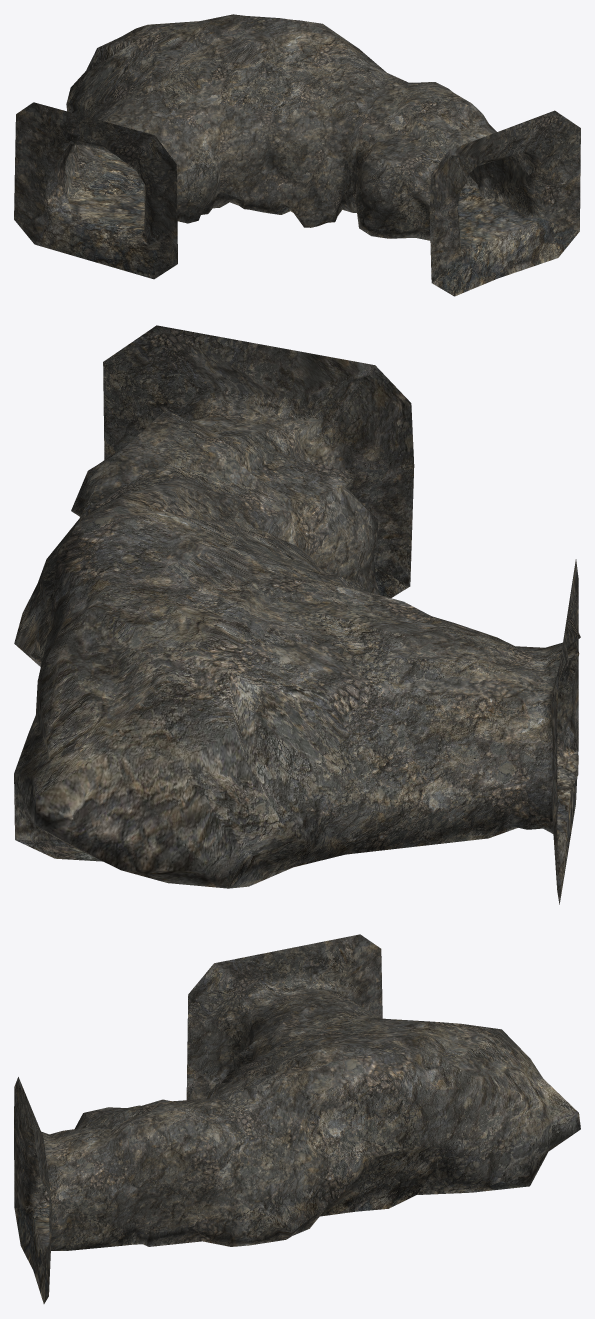
The model's file is Cave2.fbx.
3 renders of one model, top to bottom at view 1: azimuth 30°, elevation 25°; view 2: azimuth 150°, elevation 25°; view 3: azimuth 270°, elevation 25°, orthographic. The views are drawn at different scales.
Parts seen in each view (by area): view 1: Cave2; view 2: Cave2; view 3: Cave2.
Boxes of the visible parts, x1,y1,x2,y2 form: Cave2: (14, 14, 580, 296); Cave2: (14, 325, 580, 904); Cave2: (14, 934, 580, 1303).
Bounding box in the file's own units: 169 × 64.83 × 179.
